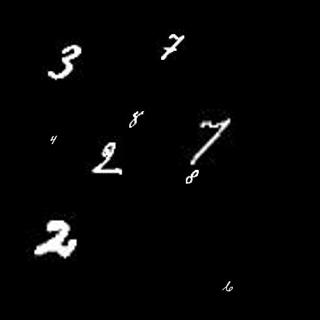eight: (127, 108, 148, 128), (185, 169, 201, 185)
four: (48, 132, 58, 145)
seven: (188, 117, 233, 165), (161, 31, 186, 60)
six: (226, 275, 238, 293)
three: (48, 40, 84, 78)
two: (37, 222, 80, 258), (91, 142, 127, 177)
